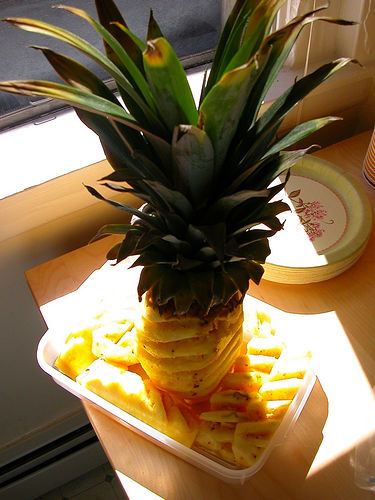pineapple: (1, 0, 361, 401)
